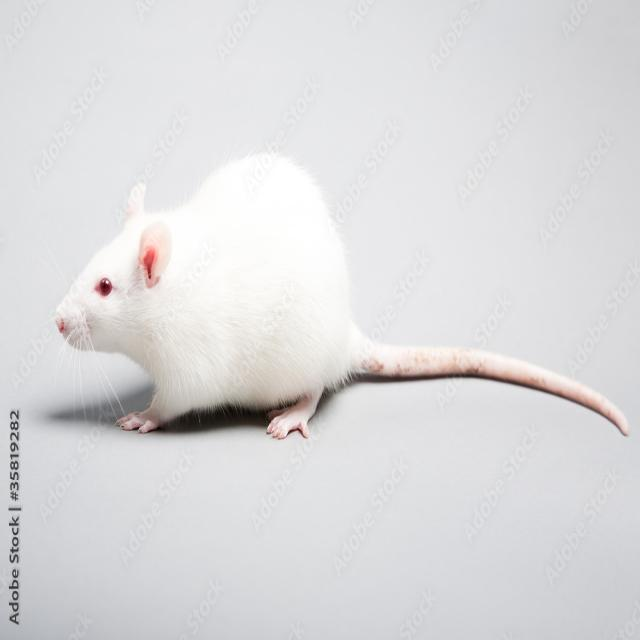rodent: (43, 148, 379, 490)
